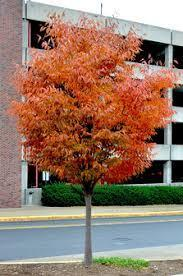tree: (8, 14, 175, 267)
